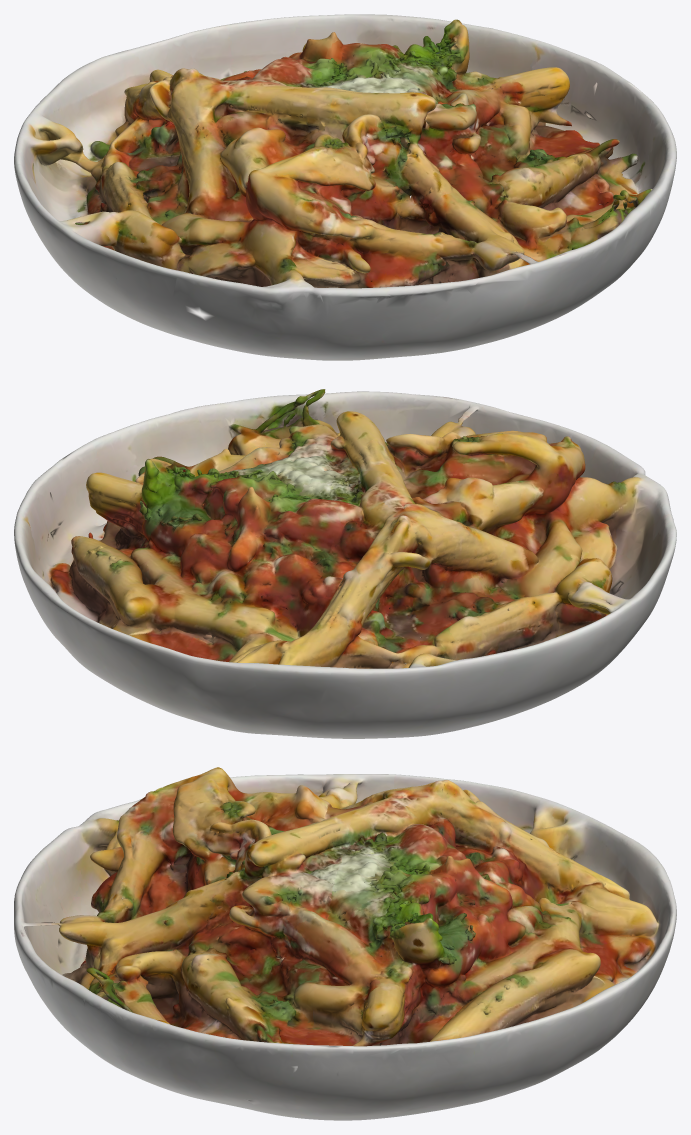
File: pasta.glb
3 renders of one model, top to bottom at view 1: azimuth 30°, elevation 25°; view 2: azimuth 150°, elevation 25°; view 3: azimuth 270°, elevation 25°, orthographic.
Size of the model in its own units: 2 by 0.6633 by 2.
1 material, 1 textured.
